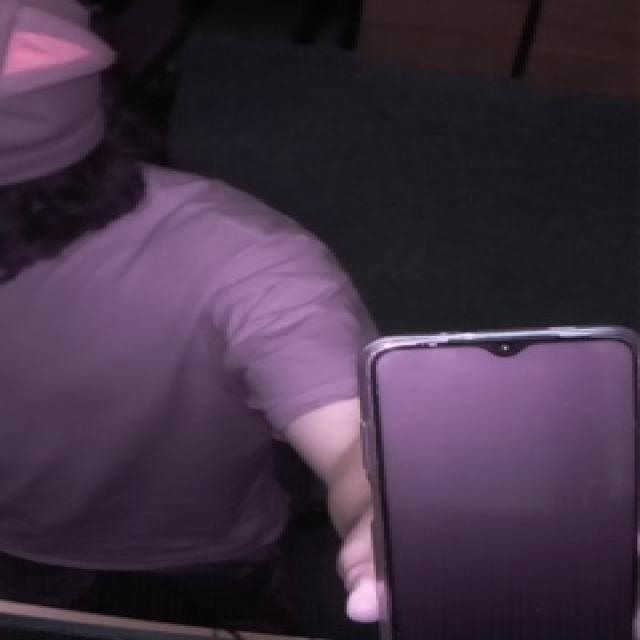phone: (342, 310, 640, 639)
